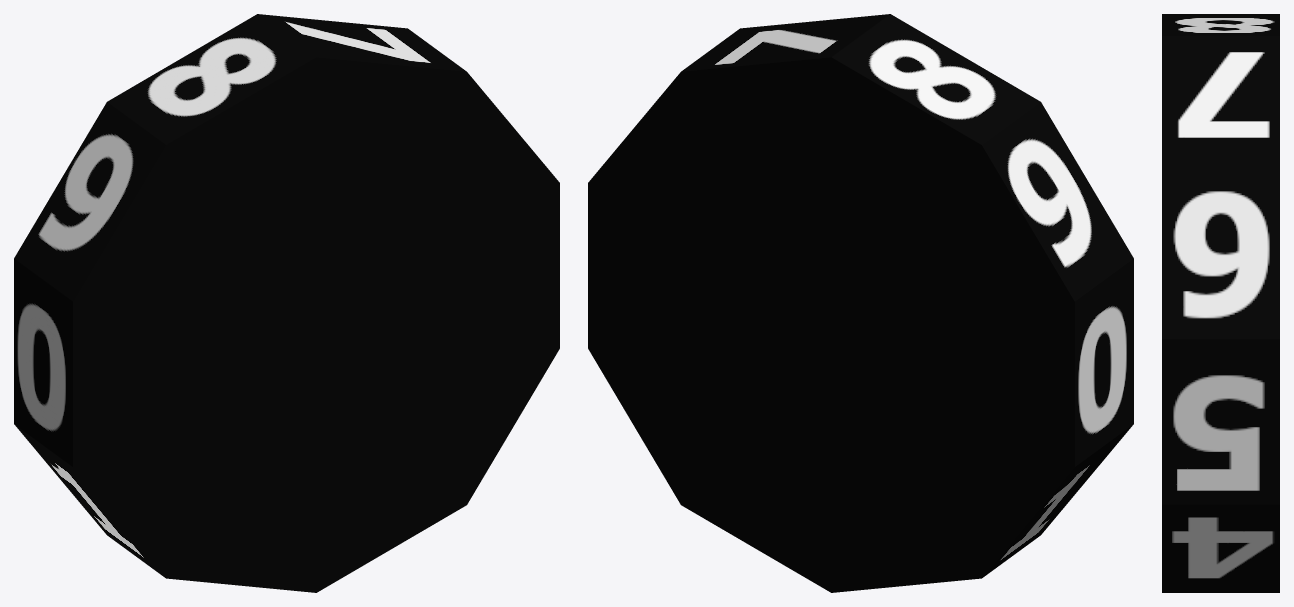
File: gamenoplay-safedigit.glb
The picture shows the model from 3 angles, left to right: view 1: azimuth 30°, elevation 25°; view 2: azimuth 150°, elevation 25°; view 3: azimuth 270°, elevation 25°; orthographic projection.
Visible parts, largest first — view 1: Cylinder; view 2: Cylinder; view 3: Cylinder.
Part boxes in pixels (x1=…): Cylinder: x1=14, y1=14, x2=559, y2=592; Cylinder: x1=588, y1=14, x2=1133, y2=592; Cylinder: x1=1162, y1=14, x2=1279, y2=592.
Bounding box in the file's own units: 1.9 × 2 × 0.4.
Materials: 1 (1 with a texture image).
